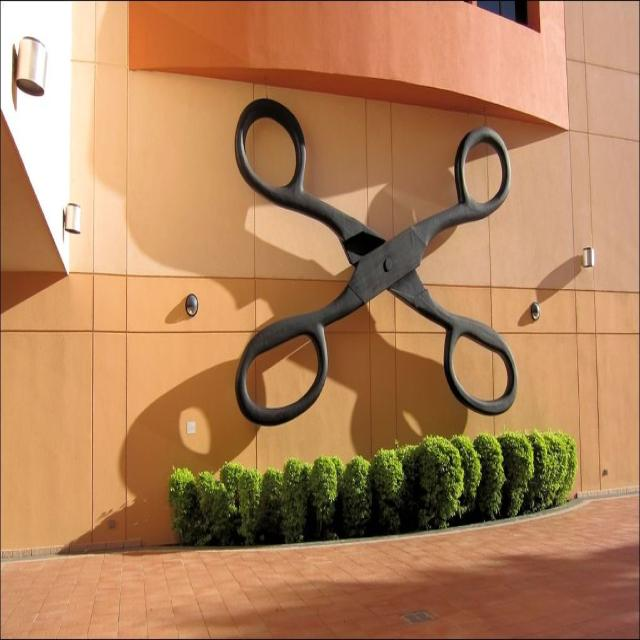scissors: (233, 96, 518, 425)
